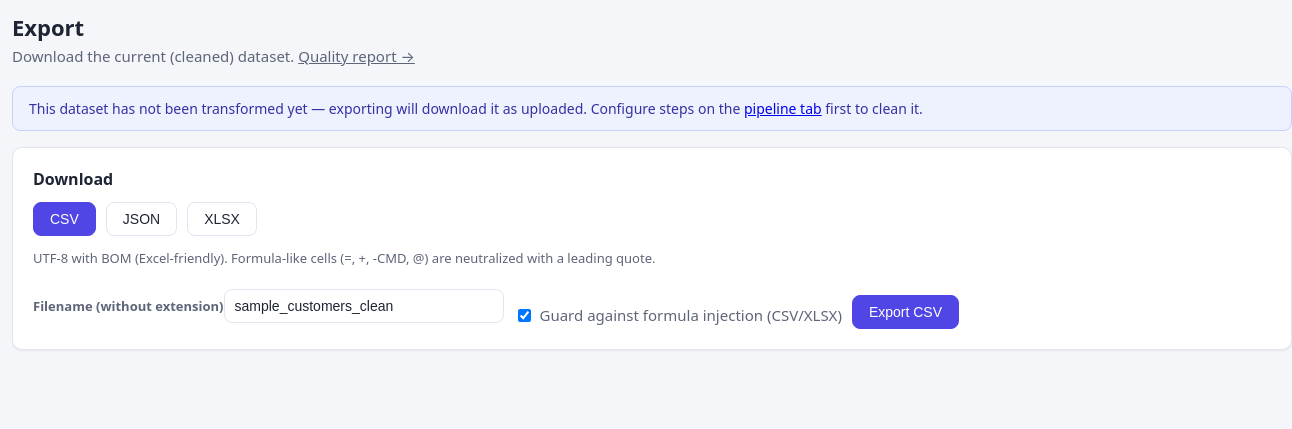
Test: ExportPage › surfaces export errors
What coordinates should you click on to do the following:
click the button "Export CSV"
I would click on:
 (905, 312)
Its box is [852,295,959,329].
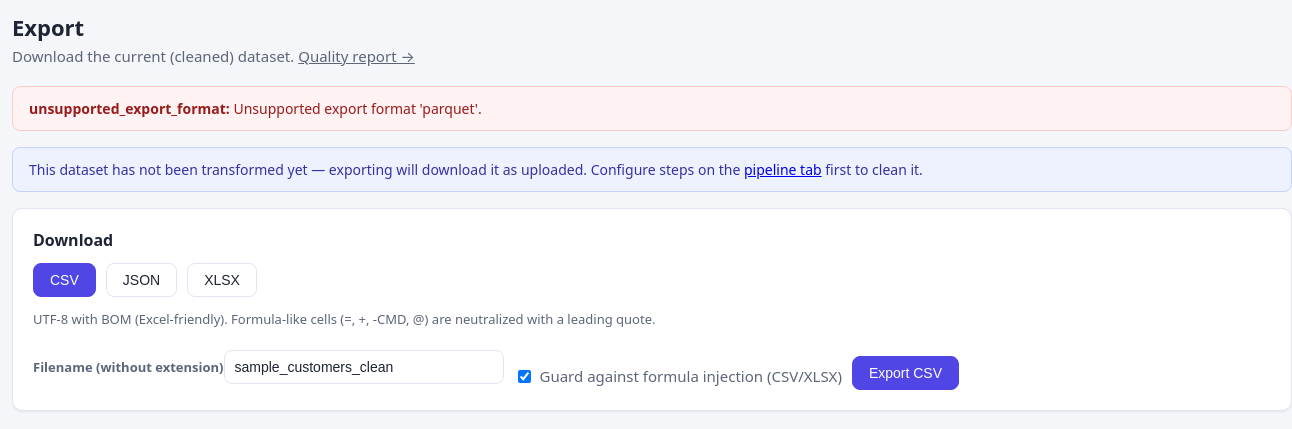
Result: the message shows "unsupported_export_format" at [29,99,233,118]
